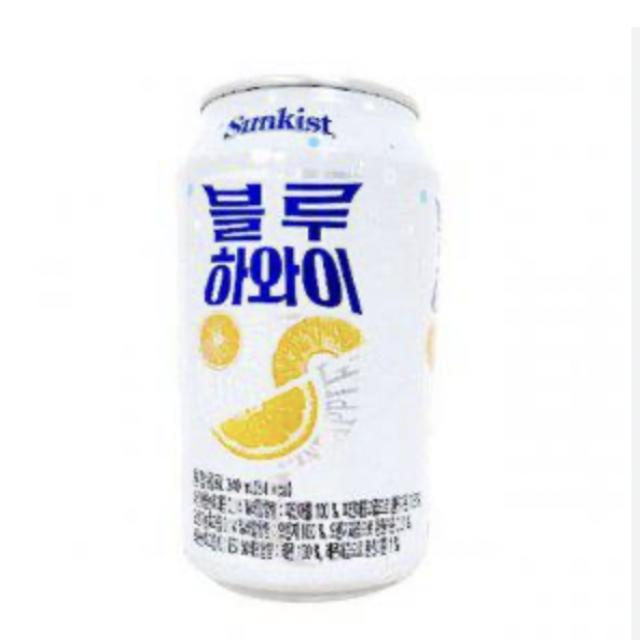recyclable: (164, 57, 461, 610)
